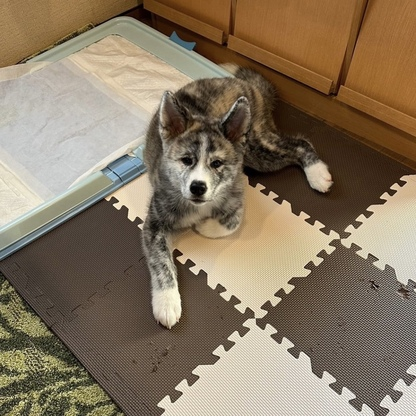akita: (135, 58, 335, 333)
